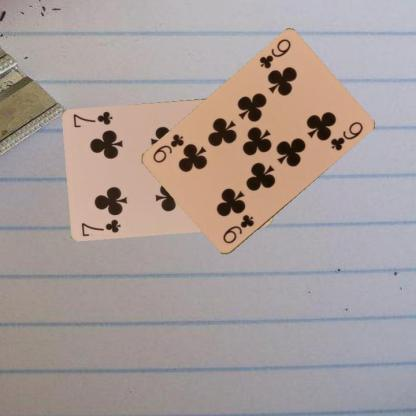7c: (79, 216, 123, 237)
9c: (220, 212, 256, 246), (257, 36, 292, 70)
